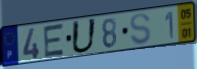1: (164, 10, 175, 40)
4: (22, 26, 42, 61)
8: (101, 17, 118, 49)
E: (42, 22, 66, 59)
S: (129, 12, 153, 47)
U: (70, 17, 98, 55)
